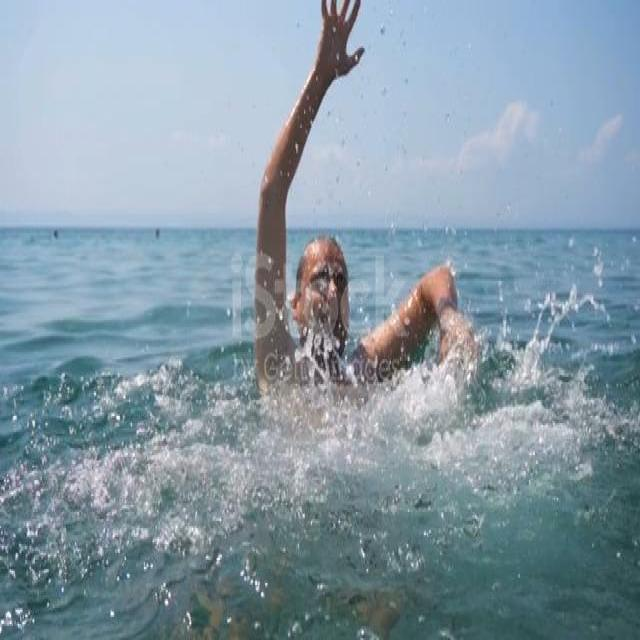Out of Water: (259, 5, 468, 448)
